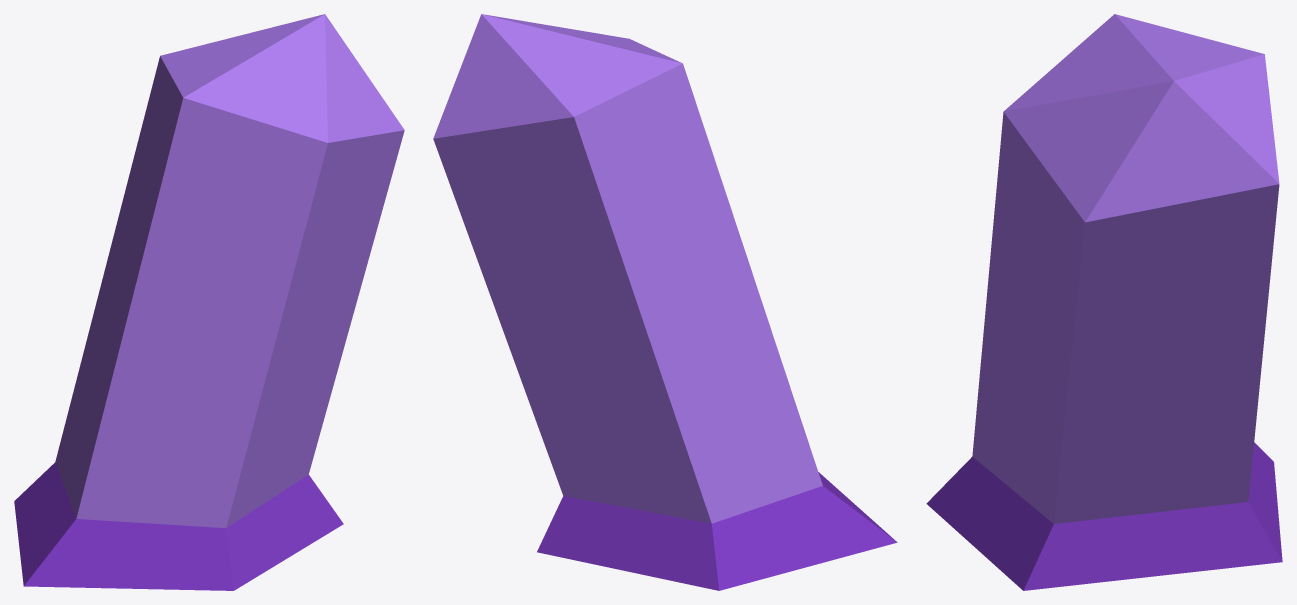
Rendered from crystal_titled_003_grp.fbx.
3 views of the same model, side by side, from view 1: azimuth 30°, elevation 25°; view 2: azimuth 150°, elevation 25°; view 3: azimuth 270°, elevation 25° (orthographic). The views are drawn at different scales.
Visible parts, largest first — view 1: crystal_titled_003_grp; view 2: crystal_titled_003_grp; view 3: crystal_titled_003_grp.
Part boxes in pixels (x1,y1,x2,y2): crystal_titled_003_grp: [14, 14, 404, 590]; crystal_titled_003_grp: [433, 14, 897, 590]; crystal_titled_003_grp: [926, 14, 1282, 590].
Size of the model in its own units: 45 by 50 by 30.
